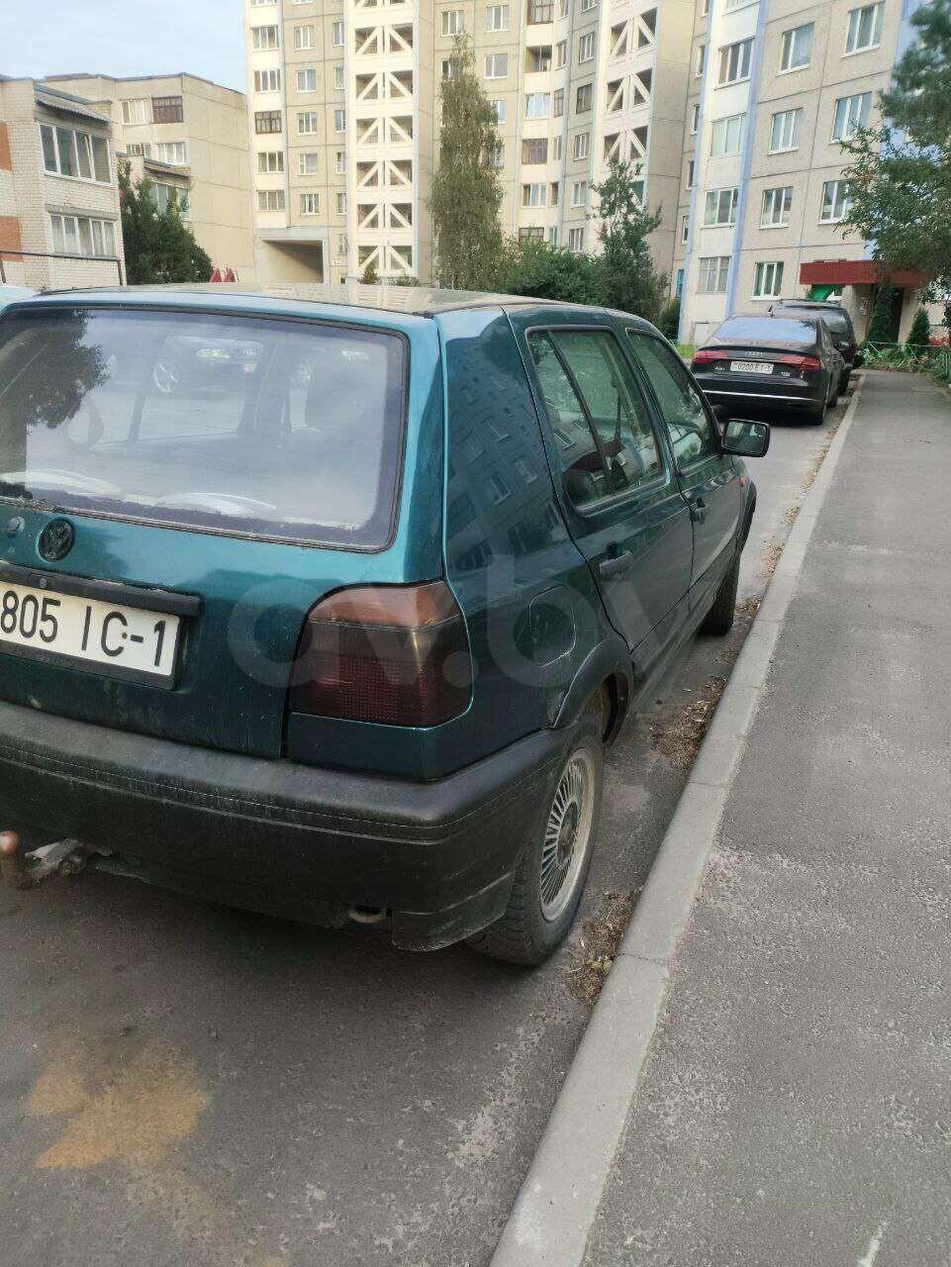Golf_1991-2000: (0, 278, 760, 978)
